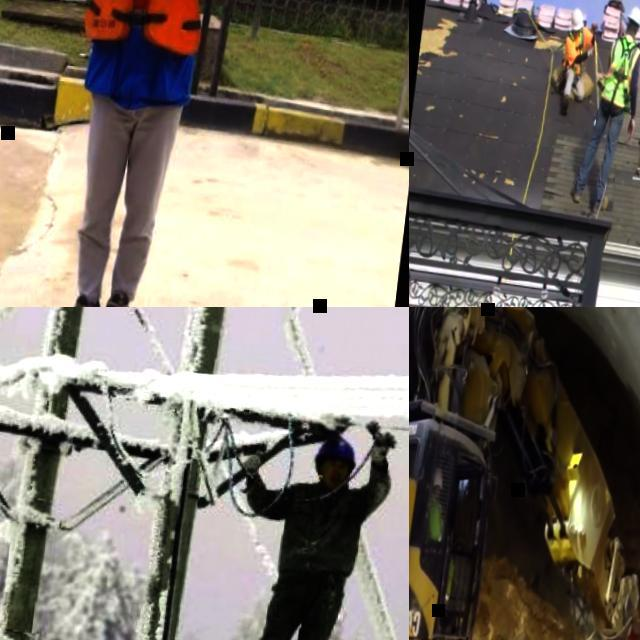helmet: (312, 434, 361, 472), (431, 466, 445, 491), (569, 7, 584, 30), (625, 5, 640, 26)
vest: (82, 0, 224, 56), (600, 32, 640, 103), (424, 498, 448, 543), (564, 29, 586, 72)
